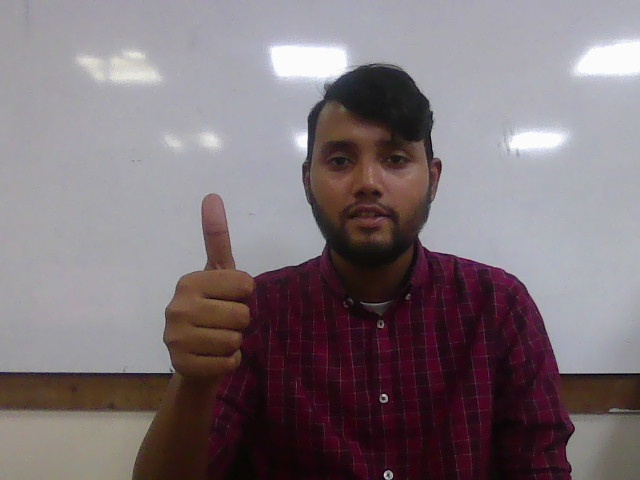Bhalo: (161, 193, 255, 387)
